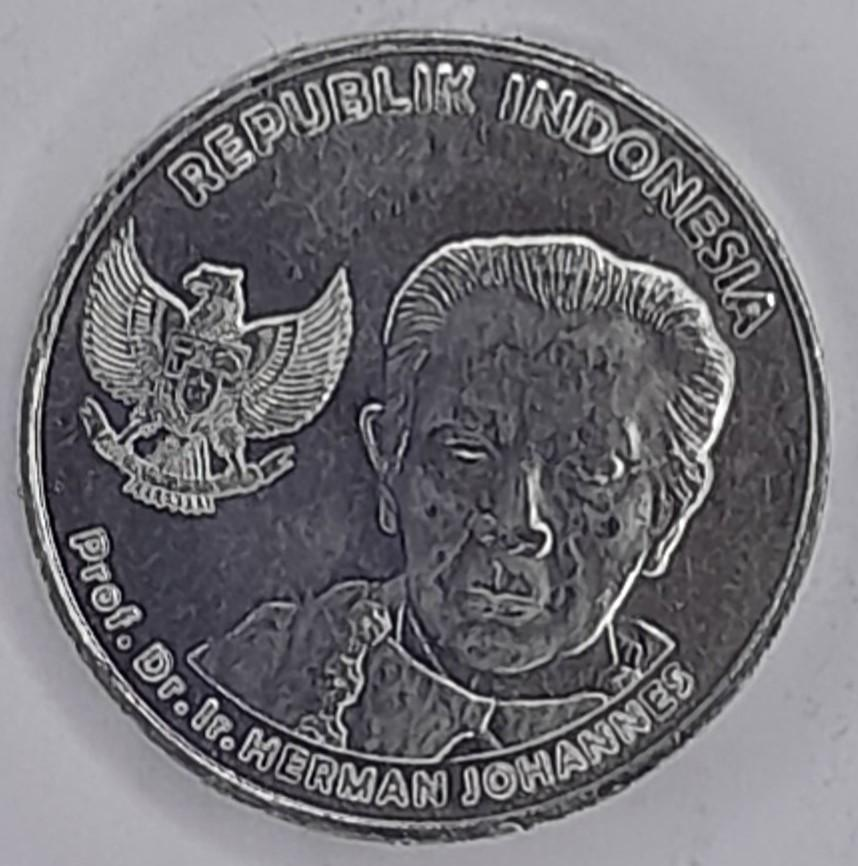coin_100_e2016: (12, 24, 837, 847)
